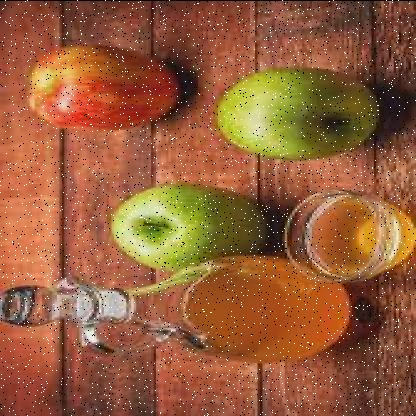apple: (106, 168, 262, 276), (25, 34, 193, 132), (218, 68, 382, 165)
